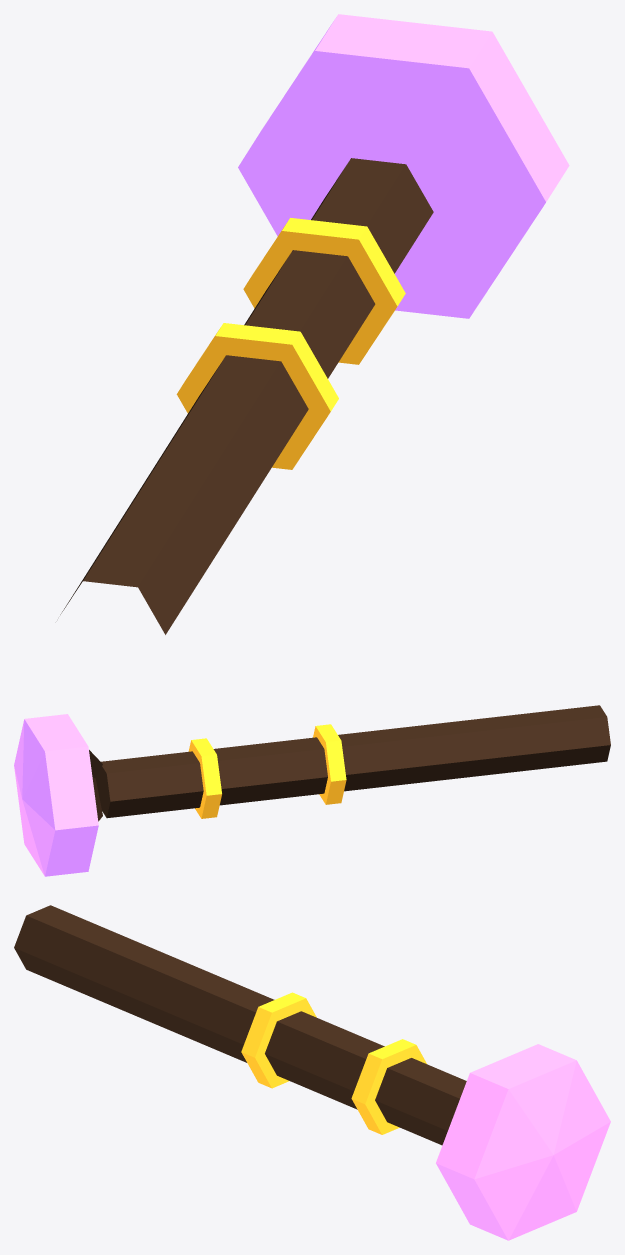
File: runed_staff.glb
3 renders of one model, top to bottom at view 1: azimuth 30°, elevation 25°; view 2: azimuth 150°, elevation 25°; view 3: azimuth 270°, elevation 25°, orthographic. The views are drawn at different scales.
Parts seen in each view (by area): view 1: runed_staff; view 2: runed_staff; view 3: runed_staff.
Part boxes in pixels (left/top/right/bottom): runed_staff: left=60, top=14, right=569, bottom=634; runed_staff: left=14, top=705, right=610, bottom=876; runed_staff: left=14, top=905, right=610, bottom=1240.
Bounding box in the file's own units: 0.9192 × 0.2576 × 0.9192.
